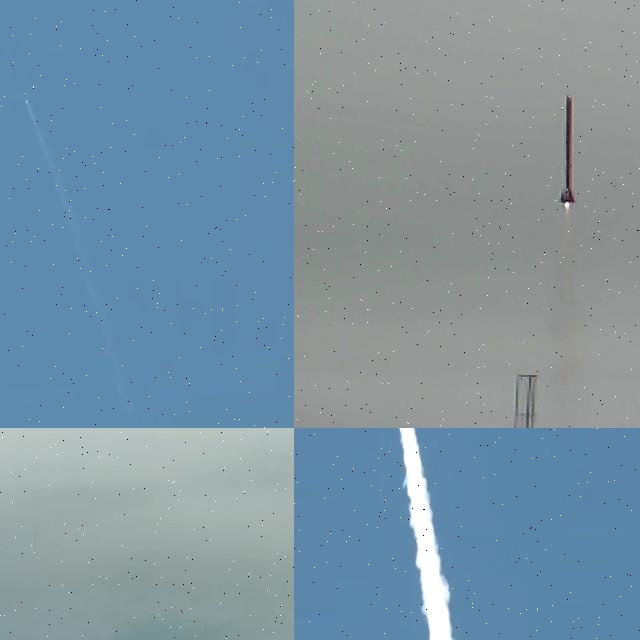Rocket: (560, 94, 576, 204), (26, 100, 28, 104)
